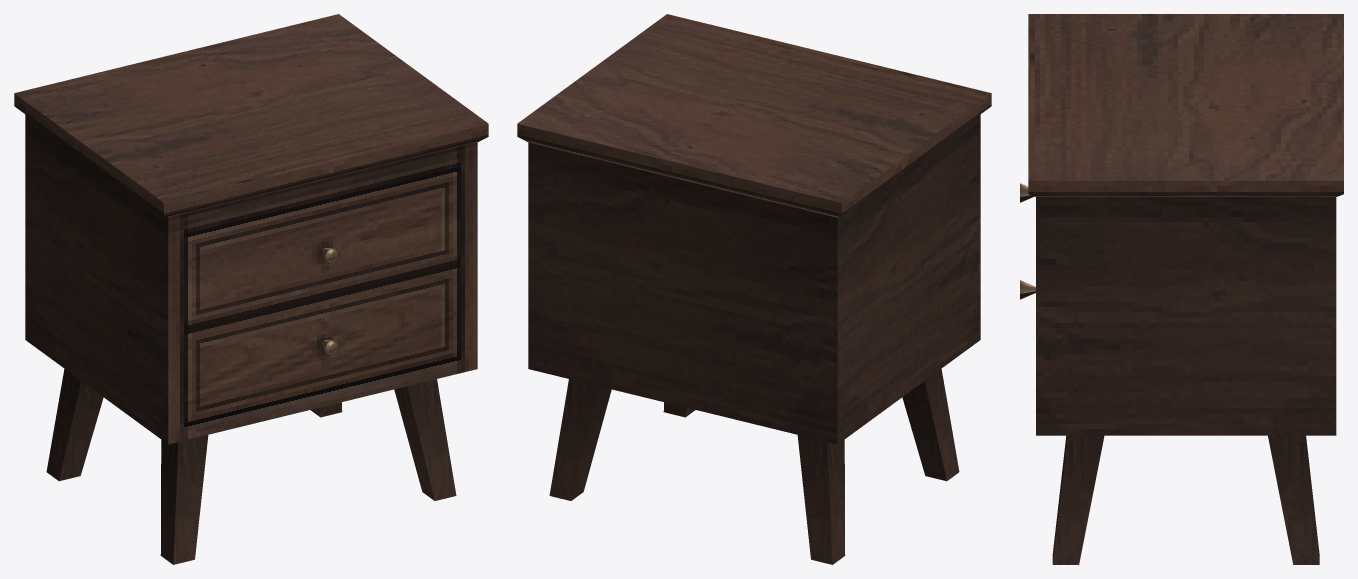
The model's file is night1.glb.
3 views of the same model, side by side, from view 1: azimuth 30°, elevation 25°; view 2: azimuth 150°, elevation 25°; view 3: azimuth 270°, elevation 25° (orthographic). The views are drawn at different scales.
Visible parts, largest first — view 1: Nightstand; view 2: Nightstand; view 3: Nightstand.
Boxes of the visible parts, x1,y1,x2,y2 form: Nightstand: (14,14,488,564); Nightstand: (517,14,991,564); Nightstand: (1020,14,1343,564).
Bounding box in the file's own units: 0.5248 × 0.58 × 0.4309.
Materials: 1 (1 with a texture image).
